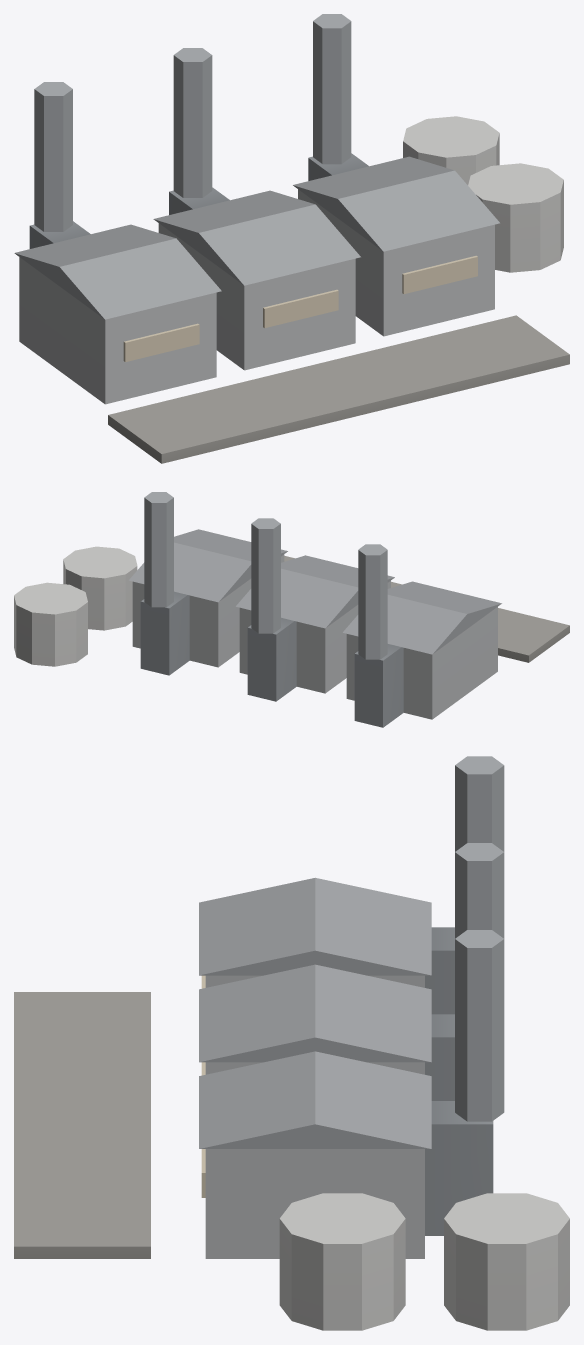
The model's file is plant_peaker_l2.glb.
3 views of the same model, one above another, from view 1: azimuth 30°, elevation 25°; view 2: azimuth 150°, elevation 25°; view 3: azimuth 270°, elevation 25° (orthographic). The views are drawn at different scales.
Parts seen in each view (by area): view 1: plant_peaker_l2; view 2: plant_peaker_l2; view 3: plant_peaker_l2.
Part boxes in pixels (<box>): plant_peaker_l2: <box>14,14,569,463</box>; plant_peaker_l2: <box>14,492,569,727</box>; plant_peaker_l2: <box>14,756,569,1330</box>.
Bounding box in the file's own units: 56.37 × 23 × 40.6.
